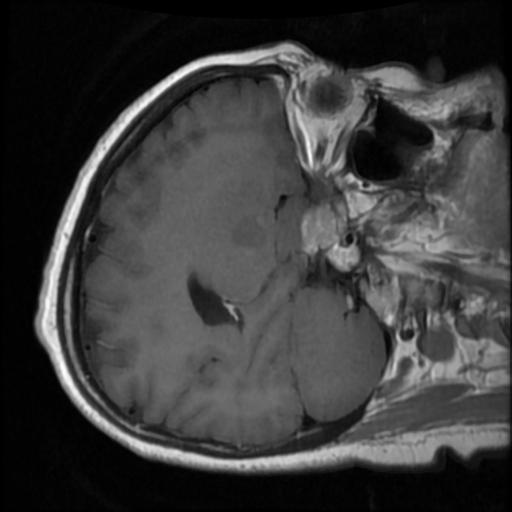pituitary tumour: (299, 201, 359, 271)
